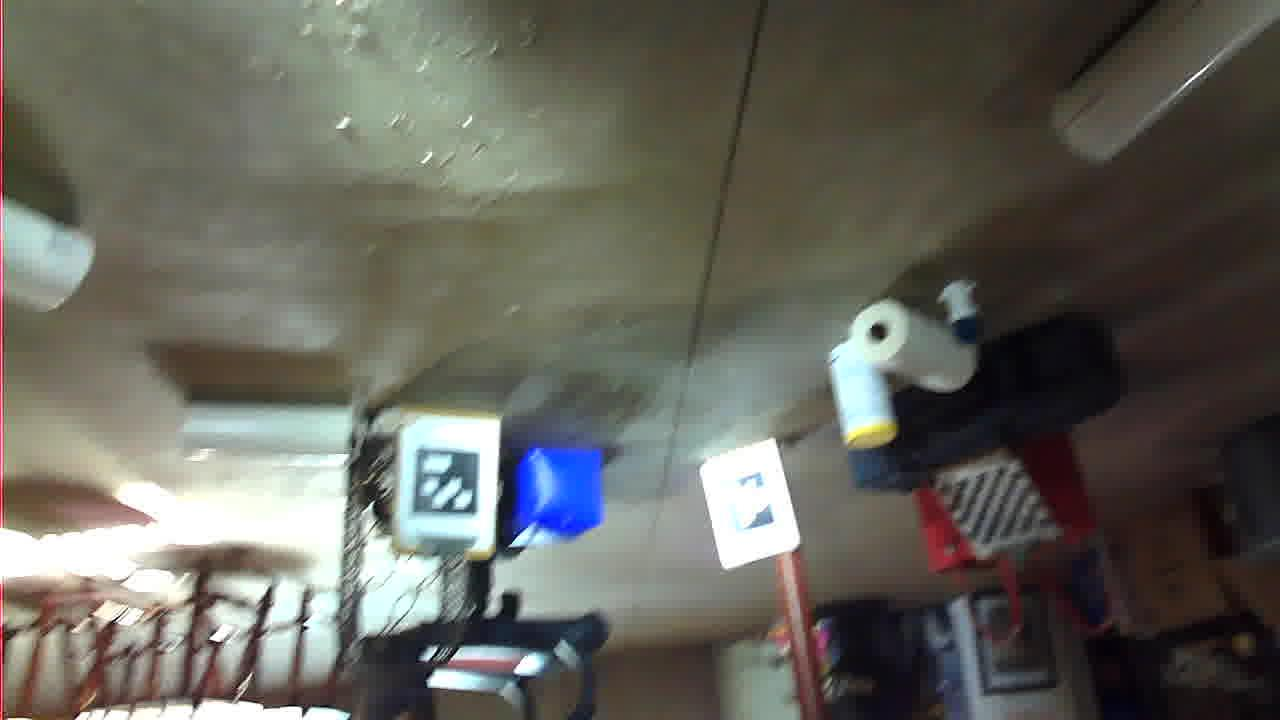coral: (0, 552, 224, 720), (932, 256, 1101, 322), (1186, 409, 1280, 522)
